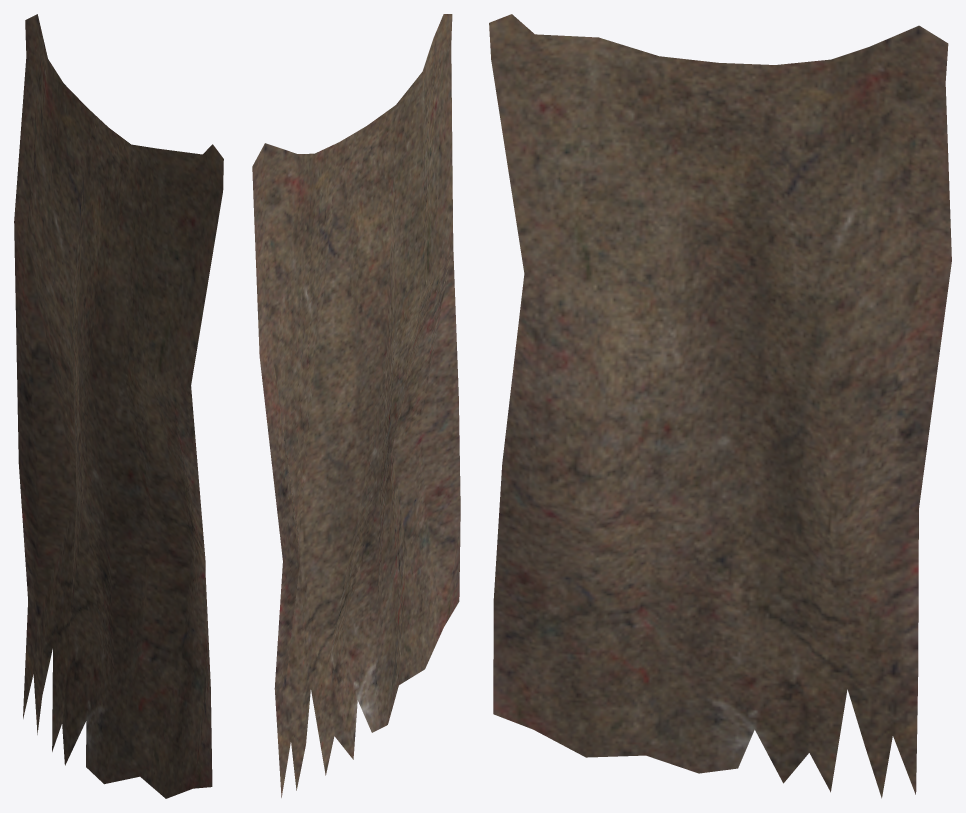
Rendered from TornCloth_T01.FBX.
3 renders of one model, left to right at view 1: azimuth 30°, elevation 25°; view 2: azimuth 150°, elevation 25°; view 3: azimuth 270°, elevation 25°, orthographic. The views are drawn at different scales.
Parts seen in each view (by area): view 1: TornCloth_T01; view 2: TornCloth_T01; view 3: TornCloth_T01.
Boxes of the visible parts, box(x1,y1,x2,y2) form: TornCloth_T01: box(14, 14, 223, 798); TornCloth_T01: box(252, 14, 460, 797); TornCloth_T01: box(489, 14, 951, 798).
Size of the model in its own units: 15.67 by 227 by 121.
1 material, 1 textured.
